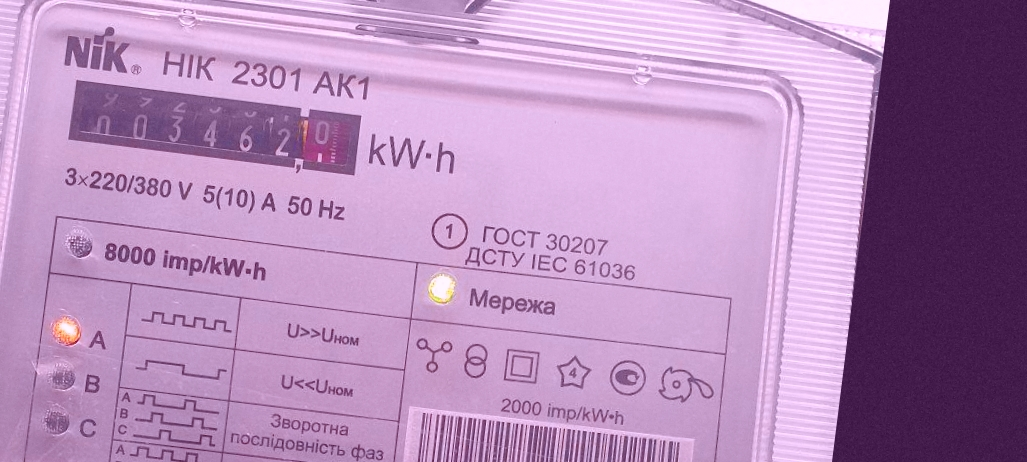0: (129, 110, 151, 141), (312, 118, 332, 148), (91, 111, 113, 136)
2: (272, 125, 294, 159)
3: (164, 112, 186, 146)
4: (201, 116, 221, 150)
6: (234, 120, 258, 156)
9: (98, 90, 120, 111)
screen: (53, 66, 374, 195)
